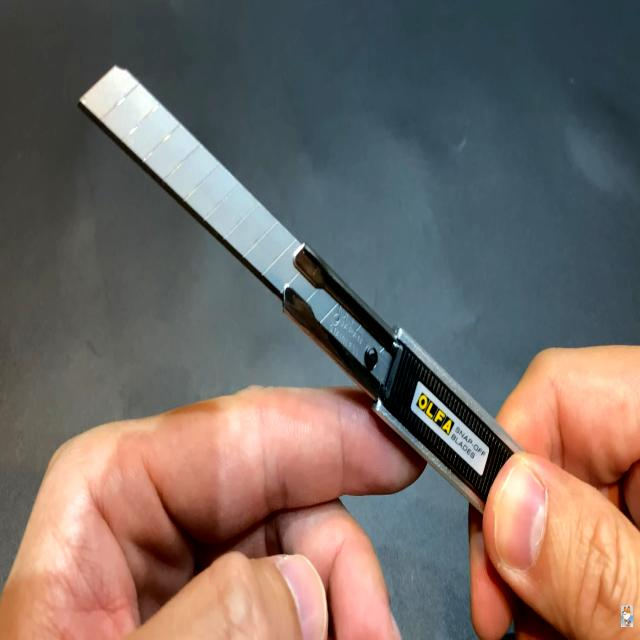cutter: (55, 30, 640, 598)
